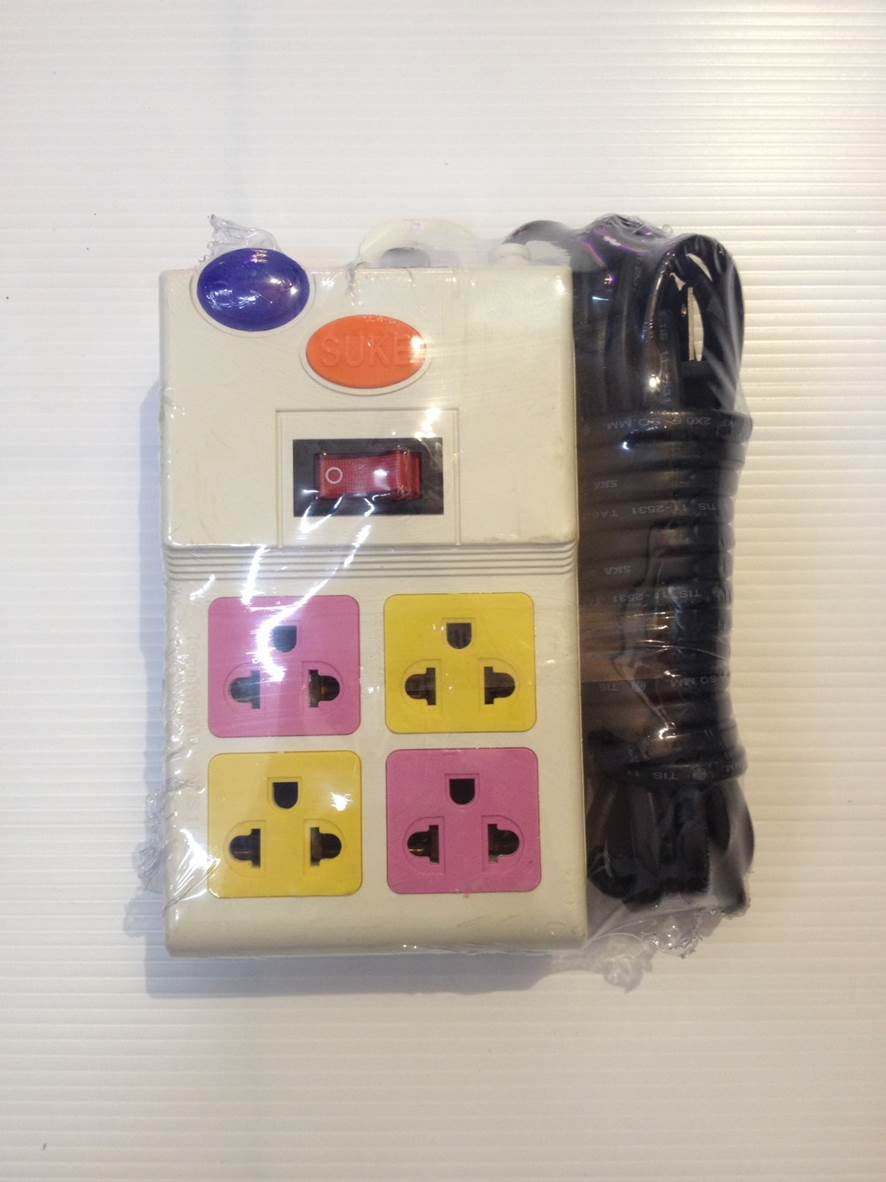Three_eye_plug: (113, 204, 665, 988)
